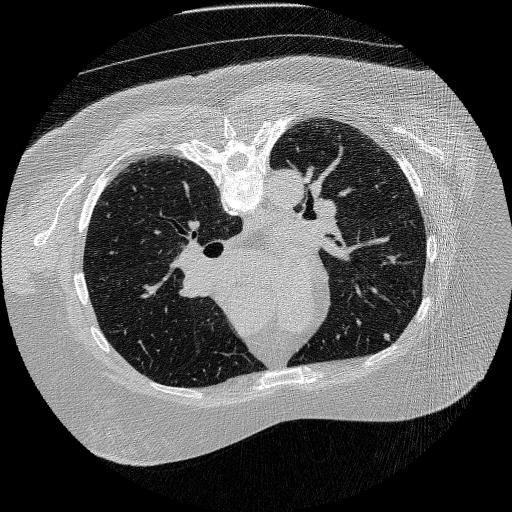nodule: (379, 331, 393, 345)
